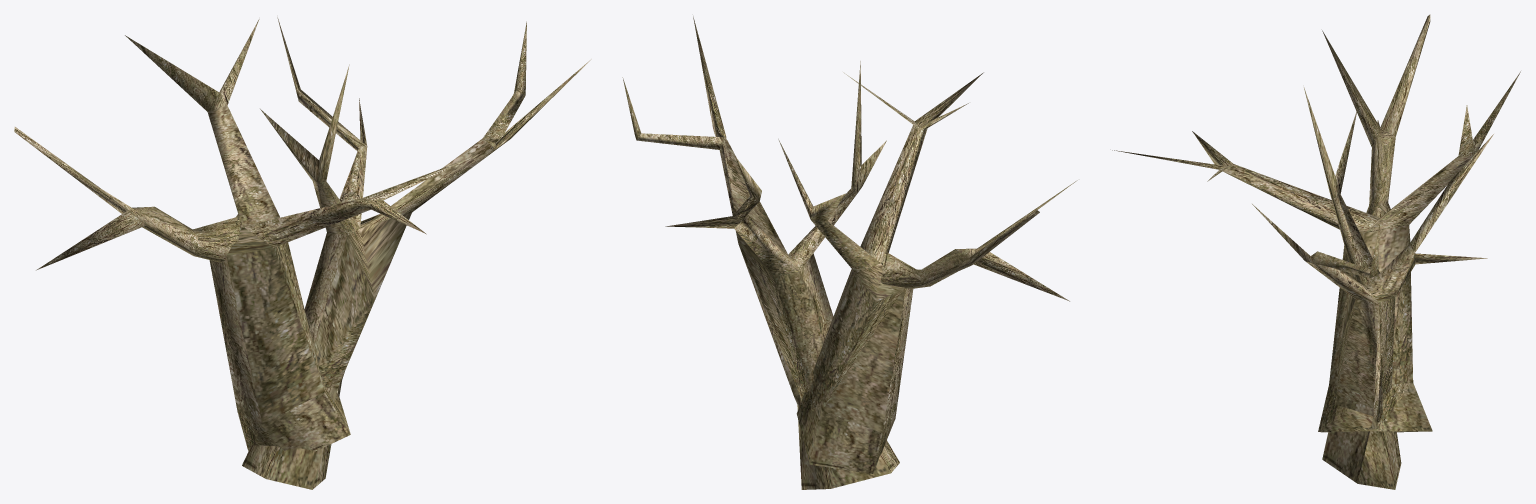
File: tree_baobab_trunk_c.dae
3 renders of one model, left to right at view 1: azimuth 30°, elevation 25°; view 2: azimuth 150°, elevation 25°; view 3: azimuth 270°, elevation 25°, orthographic. The views are drawn at different scales.
Visible parts, largest first — view 1: Object65; view 2: Object65; view 3: Object65.
Boxes of the visible parts, x1,y1,x2,y2 form: Object65: [14, 17, 591, 489]; Object65: [622, 16, 1077, 489]; Object65: [1112, 14, 1520, 489].
Size of the model in its own units: 15.22 by 12.18 by 13.03.
